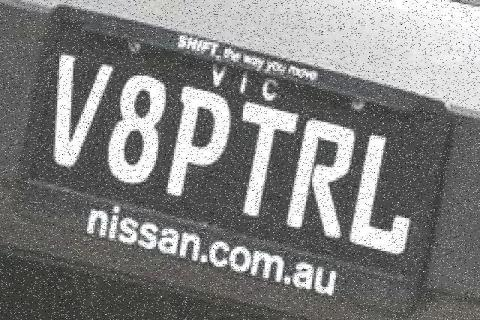LicensePlate: (12, 3, 452, 320)
